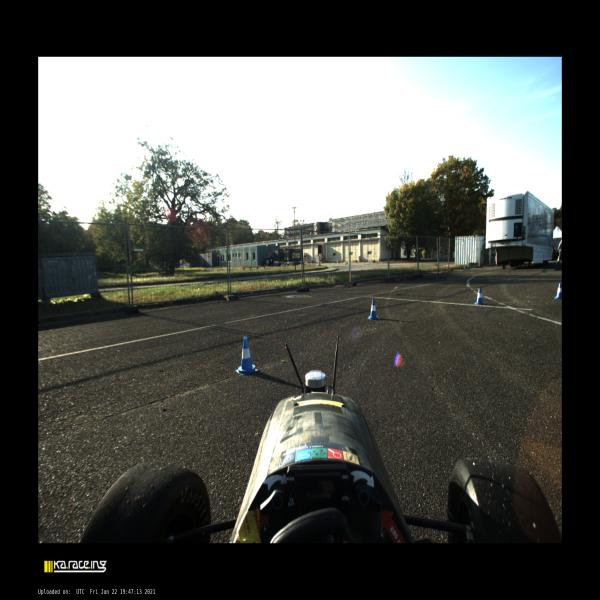blue_cone: (236, 336, 258, 375), (368, 299, 380, 320), (474, 288, 484, 305), (554, 283, 562, 299)
